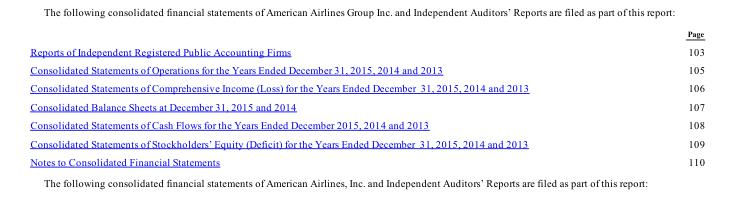table: (29, 29, 703, 167)
table column: (29, 29, 607, 167), (607, 29, 703, 167)
table column header: (29, 29, 703, 41)
table row: (29, 41, 703, 60), (29, 78, 703, 97), (29, 133, 703, 152), (29, 60, 703, 78), (29, 97, 703, 115), (29, 115, 703, 133), (29, 152, 703, 167), (29, 29, 703, 41)
